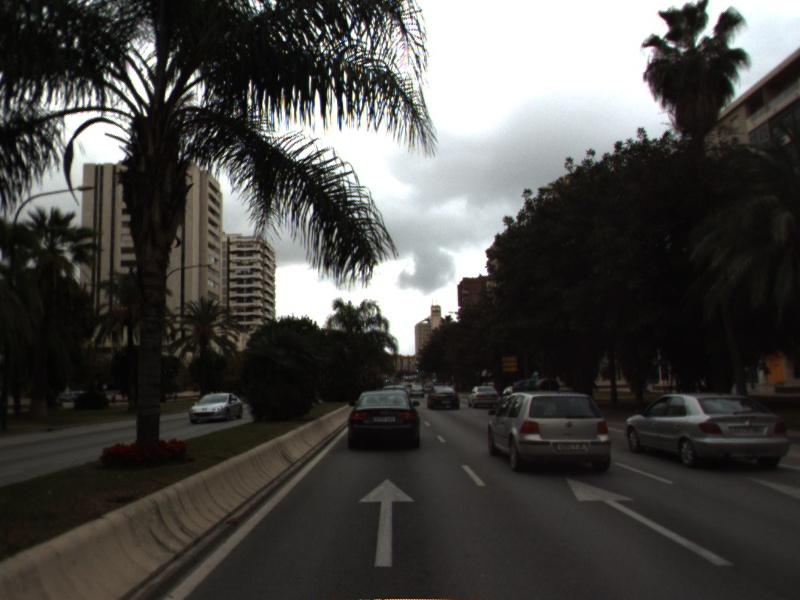STRAIGHT: (562, 475, 736, 569), (355, 476, 419, 570)
